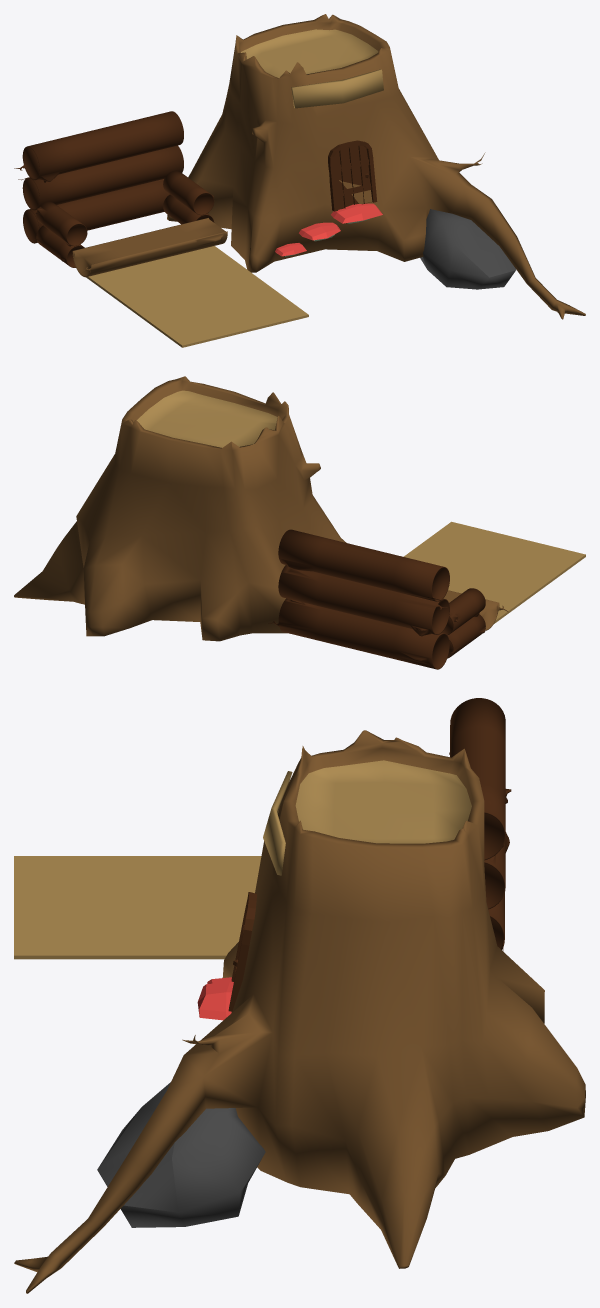
File: Shop_Model_V2_Nicole_Figg 1.fbx
3 views of the same model, one above another, from view 1: azimuth 30°, elevation 25°; view 2: azimuth 150°, elevation 25°; view 3: azimuth 270°, elevation 25° (orthographic). The views are drawn at different scales.
Parts seen in each view (by area): view 1: Stump Shop, Shop back wall, Platform, Rock, Table, Door, Shop Side counter L, Sign, Shop Side Counter R, Mushroom, Mushroom 2; view 2: Stump Shop, Shop back wall, Platform, Shop Side counter L, Table; view 3: Stump Shop, Platform, Rock, Shop back wall, Door, Sign, Mushroom.
Boxes of the visible parts, <box> form: Stump Shop: <box>167,14,585,319</box>; Shop back wall: <box>14,111,183,243</box>; Platform: <box>86,246,308,347</box>; Rock: <box>420,209,515,289</box>; Table: <box>72,217,227,277</box>; Door: <box>328,140,377,211</box>; Shop Side counter L: <box>35,201,87,267</box>; Sign: <box>291,69,383,108</box>; Shop Side Counter R: <box>163,170,214,224</box>; Mushroom: <box>331,203,382,223</box>; Mushroom 2: <box>299,222,340,241</box>; Stump Shop: <box>14,376,346,641</box>; Shop back wall: <box>268,529,449,669</box>; Platform: <box>403,521,585,624</box>; Shop Side counter L: <box>442,588,485,658</box>; Table: <box>443,590,508,630</box>; Stump Shop: <box>14,730,585,1293</box>; Platform: <box>14,856,261,959</box>; Rock: <box>97,1082,265,1227</box>; Shop back wall: <box>449,698,511,950</box>; Door: <box>228,892,256,1011</box>; Sign: <box>263,771,292,875</box>; Mushroom: <box>197,982,233,1020</box>.
Bounding box in the file's own units: 1401 × 742 × 991.
